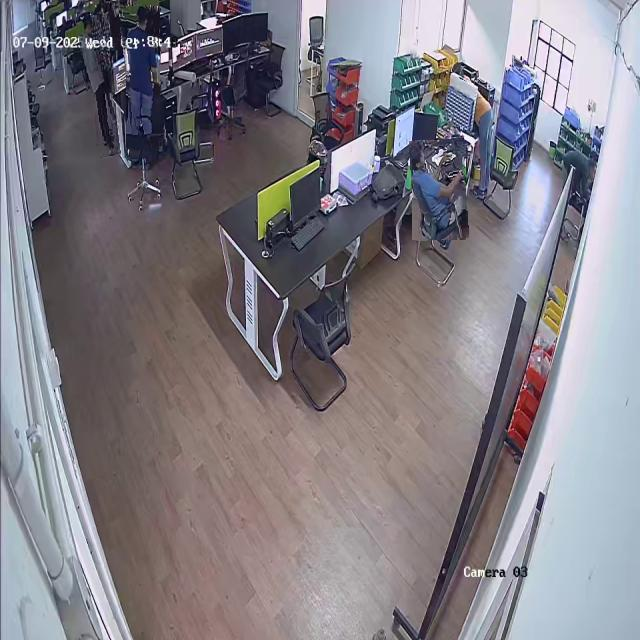person: (122, 5, 164, 149), (410, 139, 468, 241), (81, 15, 117, 157)
